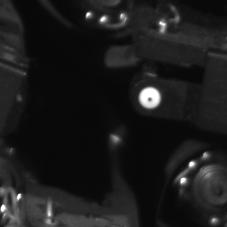fiber: (135, 85, 165, 113)
